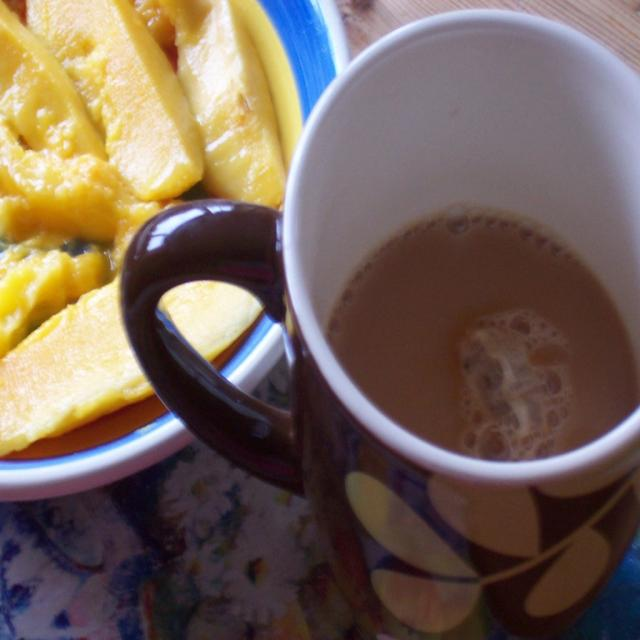Coffee: (252, 138, 640, 559)
Tea: (326, 203, 640, 462)
